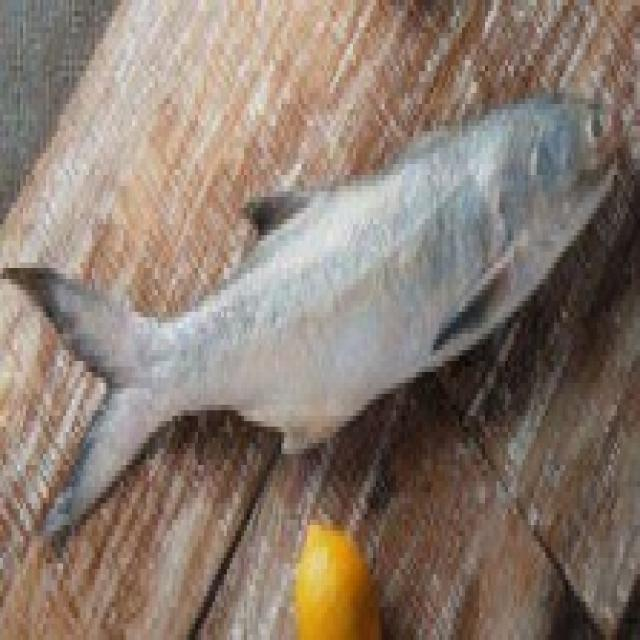Fourfinger-Threadfin: (0, 81, 640, 554)
